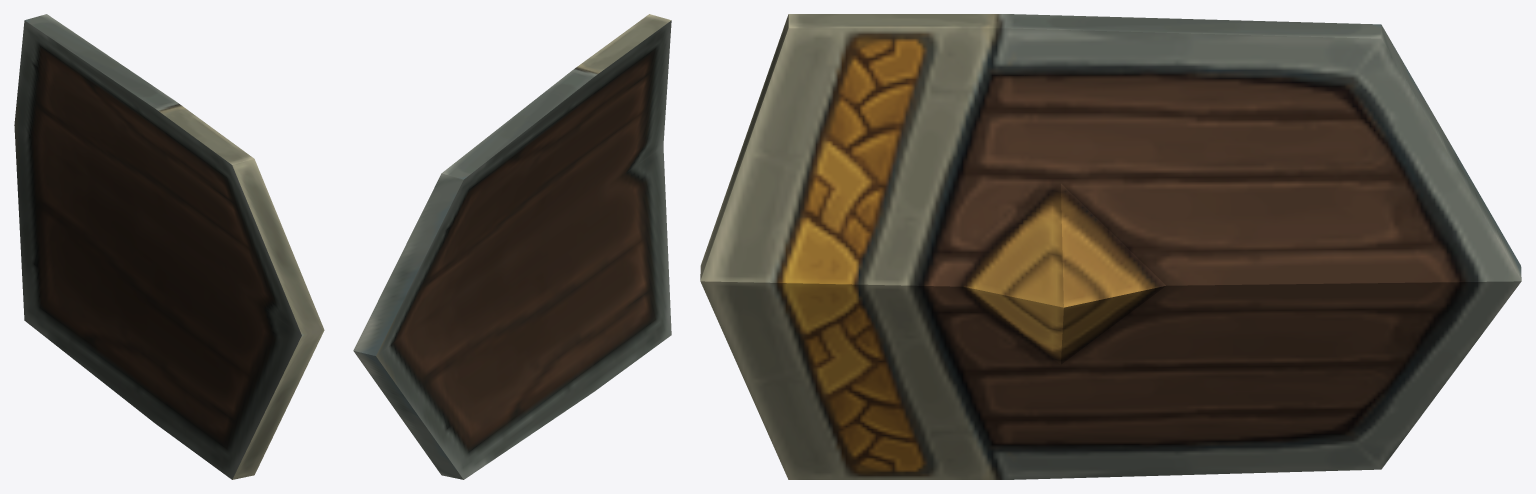
The model's file is DWF_Shield_C.FBX.
The picture shows the model from 3 angles, left to right: view 1: azimuth 30°, elevation 25°; view 2: azimuth 150°, elevation 25°; view 3: azimuth 270°, elevation 25°; orthographic projection. The views are drawn at different scales.
Parts seen in each view (by area): view 1: DWF_Shield_C; view 2: DWF_Shield_C; view 3: DWF_Shield_C.
Boxes of the visible parts, bbox=[...] form: DWF_Shield_C: bbox=[14, 14, 324, 479]; DWF_Shield_C: bbox=[353, 14, 671, 479]; DWF_Shield_C: bbox=[700, 14, 1521, 479].
Bounding box in the file's own units: 7.2 × 21.95 × 36.18.
1 material, 1 textured.
